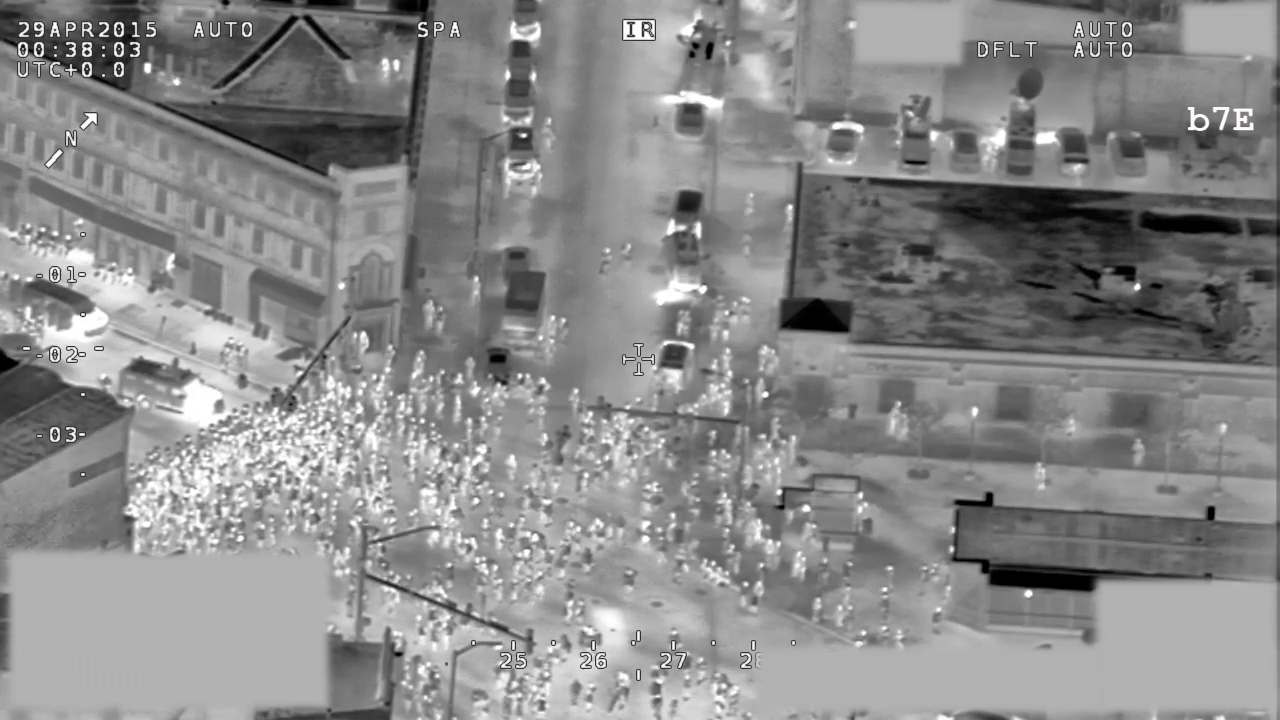vehicle: (115, 351, 230, 433), (20, 273, 119, 347), (671, 15, 736, 99), (497, 265, 552, 361), (1002, 65, 1047, 177), (891, 91, 940, 175), (499, 120, 542, 200), (663, 226, 711, 295), (1103, 123, 1151, 181), (493, 76, 543, 127), (648, 339, 692, 394), (824, 117, 869, 170), (1054, 122, 1095, 180), (493, 240, 536, 292), (501, 35, 541, 86), (666, 96, 711, 141), (946, 123, 984, 174), (666, 183, 710, 226), (484, 342, 514, 394)
